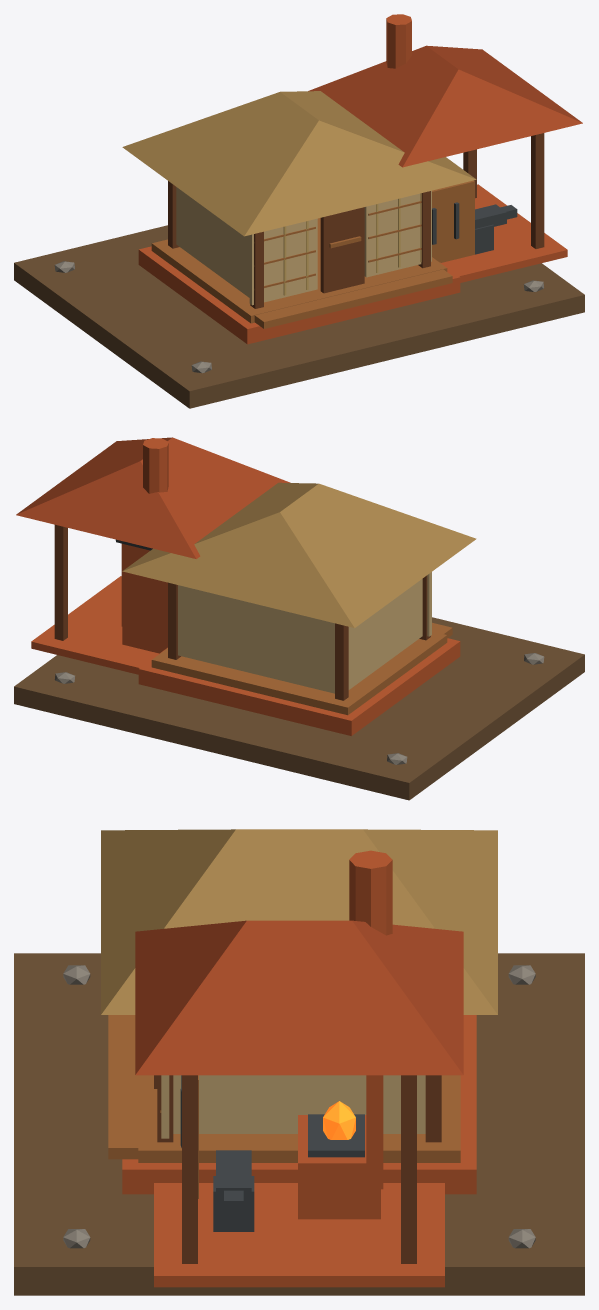
File: blacksmith_house.glb
3 views of the same model, one above another, from view 1: azimuth 30°, elevation 25°; view 2: azimuth 150°, elevation 25°; view 3: azimuth 270°, elevation 25° (orthographic). The views are drawn at different scales.
Visible parts, largest first — view 1: Building_Base, SmithHouseRoof, SmithSideRoof, SmithHousePlatform, SmithHouseFloor, SmithHouseSideWall, SmithSideFloor, SmithHouseFrontPanel, SmithHouseFrontPanel.001, SmithHouseDoor, SmithHousePorch, ToolRack (+6 smaller); view 2: Building_Base, SmithHouseRoof, SmithSideRoof, SmithHouseRearPanel, SmithHousePlatform, SmithHouseFloor, SmithSideFloor, SmithHouseSideWall, ForgeBack, SmithSidePost.003, ForgeChimney, SmithHousePost.001 (+2 smaller); view 3: Building_Base, SmithSideRoof, SmithHouseRoof, SmithSideFloor, SmithHouseSideWall.001, SmithHouseFloor, SmithHousePlatform, ForgeBase, SmithHousePorch, ForgeChimney, SmithSidePost.002, SmithSidePost.003 (+7 smaller).
Boxes of the visible parts, x1=… form: Building_Base: x1=14, y1=225, x2=584, y2=408; SmithHouseRoof: x1=122, y1=91, x2=476, y2=236; SmithSideRoof: x1=308, y1=45, x2=582, y2=167; SmithHousePlatform: x1=138, y1=246, x2=460, y2=344; SmithHouseFloor: x1=151, y1=218, x2=447, y2=323; SmithHouseSideWall: x1=176, y1=187, x2=249, y2=297; SmithSideFloor: x1=441, y1=184, x2=567, y2=282; SmithHouseFrontPanel: x1=249, y1=218, x2=317, y2=305; SmithHouseFrontPanel.001: x1=364, y1=190, x2=431, y2=277; SmithHouseDoor: x1=320, y1=207, x2=364, y2=293; SmithHousePorch: x1=254, y1=269, x2=452, y2=328; ToolRack: x1=432, y1=180, x2=474, y2=262; Building_Base: x1=14, y1=617, x2=584, y2=800; SmithHouseRoof: x1=122, y1=482, x2=476, y2=627; SmithSideRoof: x1=16, y1=437, x2=290, y2=558; SmithHouseRearPanel: x1=178, y1=585, x2=334, y2=693; SmithHousePlatform: x1=138, y1=638, x2=460, y2=735; SmithHouseFloor: x1=151, y1=631, x2=447, y2=715; SmithSideFloor: x1=31, y1=576, x2=158, y2=674; SmithHouseSideWall: x1=348, y1=579, x2=422, y2=689; ForgeBack: x1=121, y1=543, x2=167, y2=637; SmithSidePost.003: x1=54, y1=524, x2=67, y2=640; ForgeChimney: x1=143, y1=438, x2=168, y2=493; SmithHousePost.001: x1=335, y1=623, x2=348, y2=700; Building_Base: x1=14, y1=953, x2=584, y2=1295; SmithSideRoof: x1=135, y1=920, x2=463, y2=1075; SmithHouseRoof: x1=101, y1=829, x2=497, y2=1014; SmithSideFloor: x1=154, y1=1183, x2=444, y2=1287; SmithHouseSideWall.001: x1=173, y1=1075, x2=425, y2=1133; SmithHouseFloor: x1=138, y1=1075, x2=460, y2=1162; SmithHousePlatform: x1=122, y1=1015, x2=476, y2=1194; ForgeBase: x1=298, y1=1115, x2=380, y2=1219; SmithHousePorch: x1=108, y1=1015, x2=138, y2=1159; ForgeChimney: x1=349, y1=850, x2=392, y2=935; SmithSidePost.002: x1=182, y1=1075, x2=197, y2=1263; SmithSidePost.003: x1=401, y1=1075, x2=416, y2=1263.
Bounding box in the file's own units: 14.17 × 7.25 × 10.
